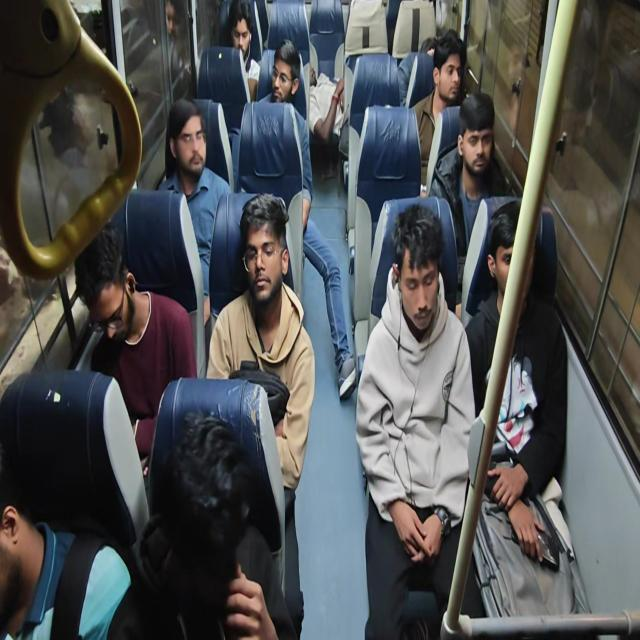person: (144, 422, 268, 640), (0, 420, 66, 617), (233, 173, 295, 330), (166, 76, 242, 202), (454, 81, 516, 214), (387, 194, 446, 325), (86, 219, 144, 347), (476, 200, 544, 292), (305, 47, 352, 145), (262, 33, 312, 124), (435, 30, 475, 119), (226, 9, 254, 73), (419, 31, 441, 61)
